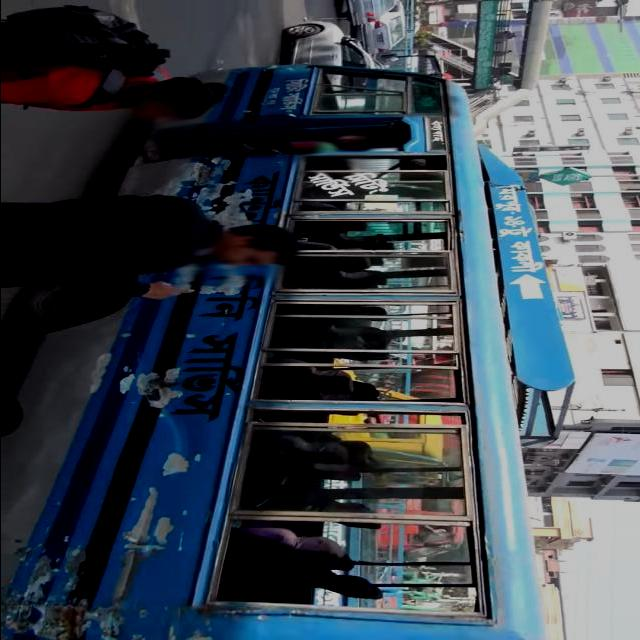bus: (2, 64, 579, 640)
